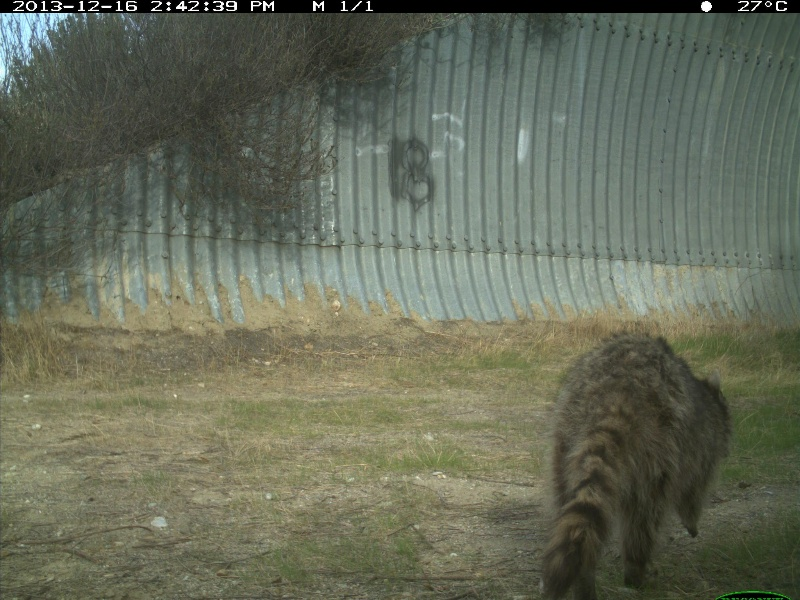raccoon: (531, 328, 735, 594)
